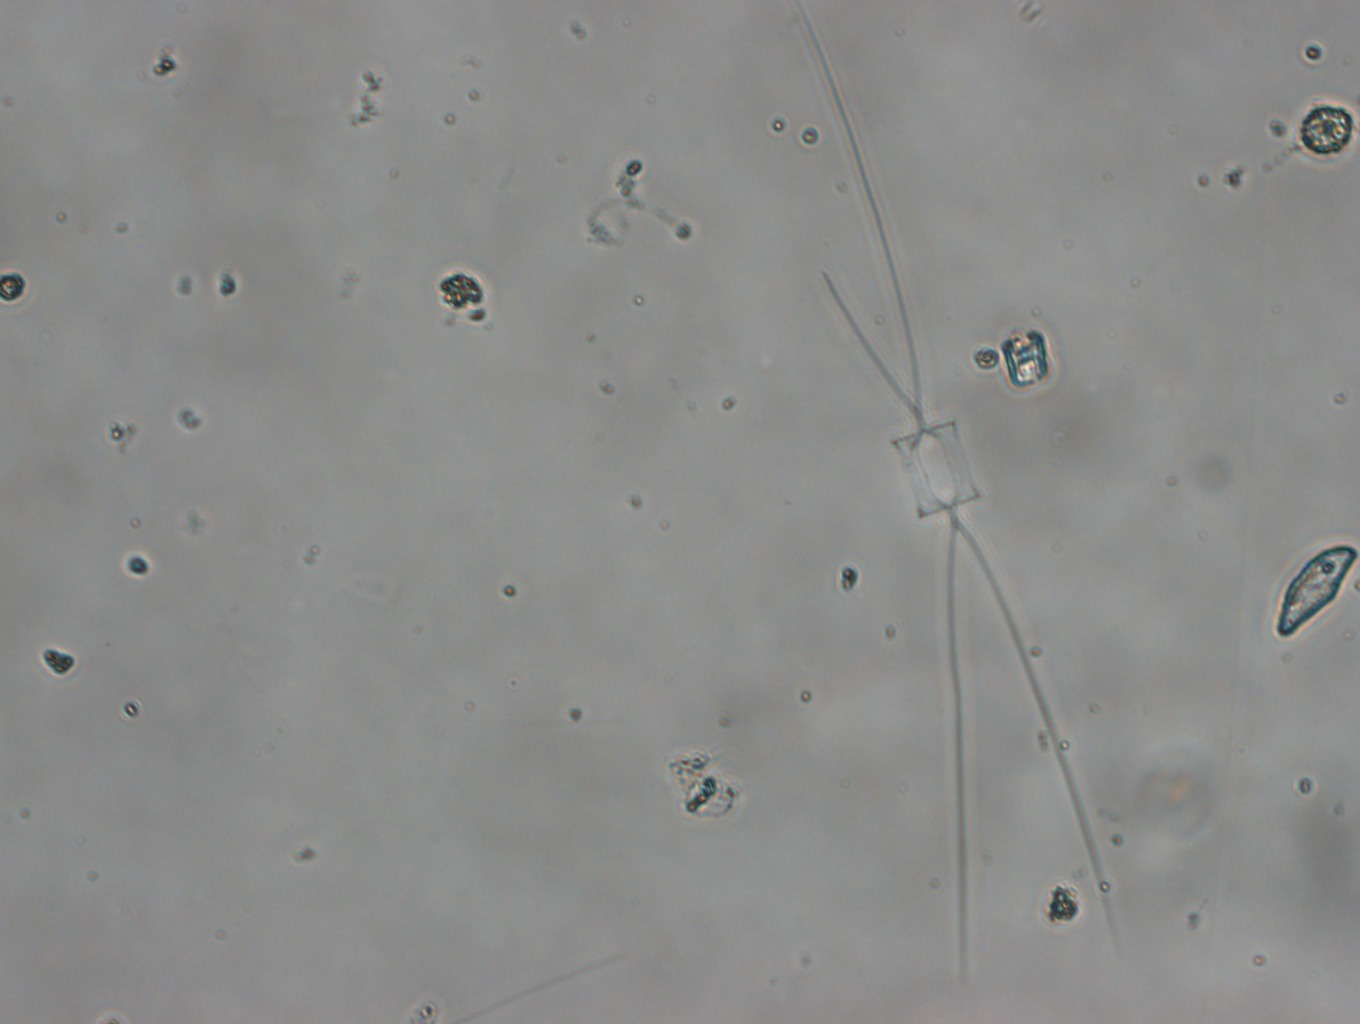chaetoceros: (794, 13, 1113, 948)
